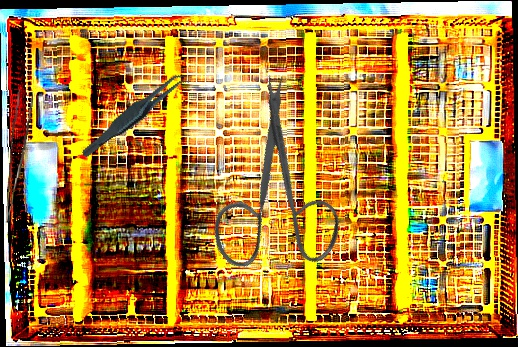Iris Scissors: (151, 66, 389, 308)
Tissue Forceps: (69, 70, 202, 159), (5, 88, 34, 225)
